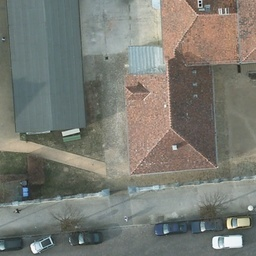car: (188, 217, 223, 234), (69, 230, 103, 247), (30, 234, 54, 255), (212, 234, 242, 250), (0, 234, 25, 252), (152, 223, 187, 235), (226, 217, 252, 230)
